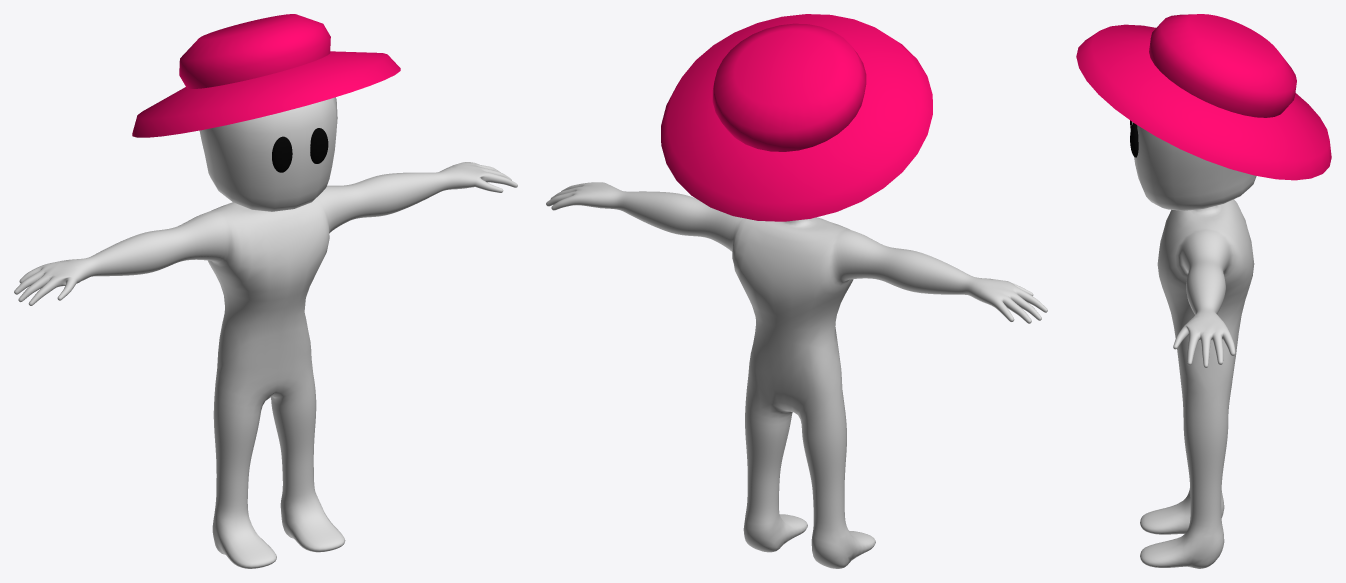
The model's file is Mr RedHat.glb.
3 renders of one model, left to right at view 1: azimuth 30°, elevation 25°; view 2: azimuth 150°, elevation 25°; view 3: azimuth 270°, elevation 25°, orthographic.
Visible parts, largest first — view 1: body, cap, eyes; view 2: cap, body; view 3: body, cap.
Part boxes in pixels (x1,y1,x2,y2): body: [14, 97, 517, 568]; cap: [132, 14, 400, 137]; eyes: [272, 128, 328, 172]; cap: [661, 14, 932, 221]; body: [546, 182, 1047, 568]; body: [1131, 122, 1256, 568]; cap: [1076, 14, 1331, 180].
Bounding box in the file's own units: 2.02 × 2.05 × 0.9054.
